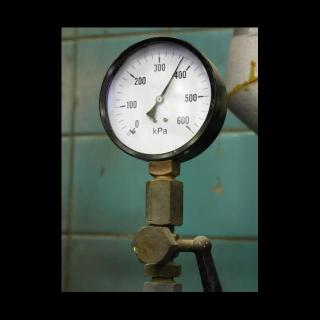gauge: (97, 28, 235, 162), (176, 116, 198, 136), (123, 118, 141, 142), (156, 94, 163, 103), (180, 54, 186, 62)
